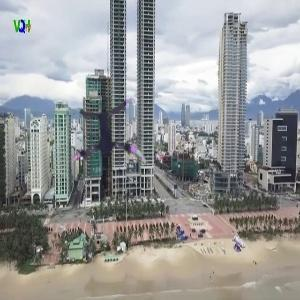drone: (64, 100, 152, 188)
